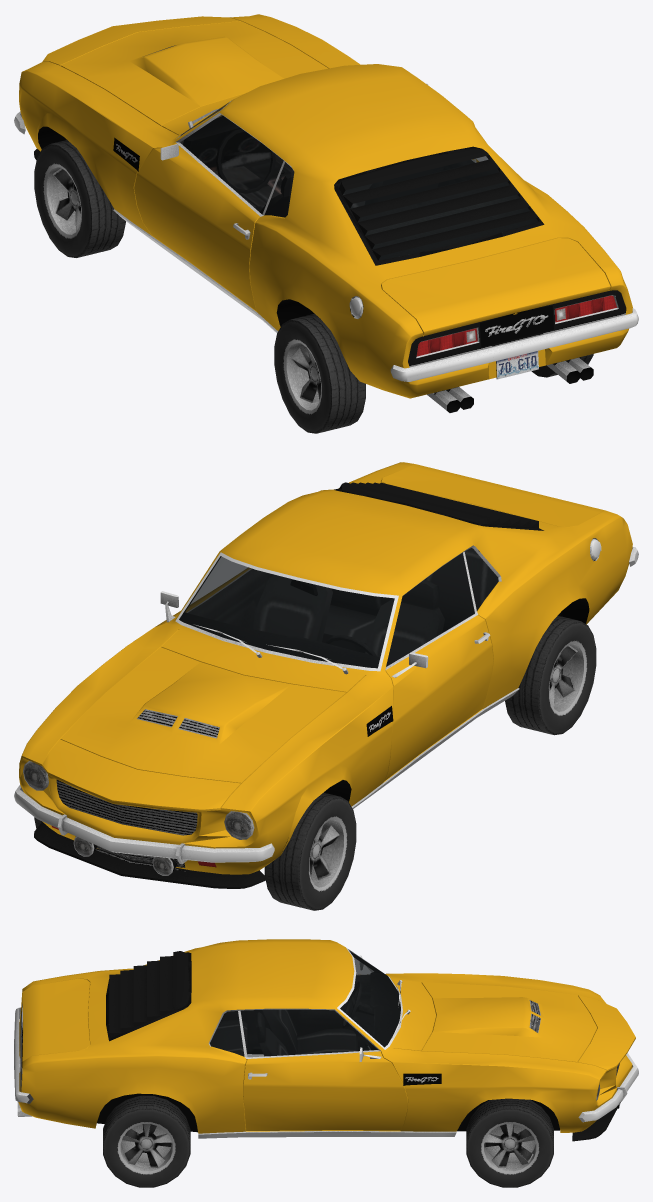
The model's file is musclecar.glb.
3 views of the same model, one above another, from view 1: azimuth 30°, elevation 25°; view 2: azimuth 150°, elevation 25°; view 3: azimuth 270°, elevation 25° (orthographic). The views are drawn at different scales.
Visible parts, largest first — view 1: Body, Trim, Glass, Interior, WheelRL, WheelFL, LightsRear; view 2: Body, Trim, Glass, Interior, WheelFL, WheelRL, LightsFront; view 3: Body, Trim, Glass, Interior, WheelRR, WheelFR.
Part boxes in pixels (x1,y1,x2,y2): Body: (19, 14, 632, 398); Trim: (14, 45, 638, 412); Glass: (180, 102, 537, 260); Interior: (181, 116, 537, 260); WheelRL: (274, 313, 365, 433); WheelFL: (34, 140, 125, 257); LightsRear: (416, 295, 616, 356); Body: (19, 462, 632, 874); Trim: (14, 482, 638, 888); Glass: (179, 548, 498, 668); Interior: (179, 548, 498, 668); WheelFL: (264, 792, 356, 910); WheelRL: (505, 615, 596, 735); LightsFront: (23, 762, 252, 875); Body: (18, 939, 635, 1133); Trim: (14, 947, 638, 1141); Glass: (109, 949, 400, 1057); Interior: (109, 951, 400, 1056); WheelRR: (103, 1095, 190, 1187); WheelFR: (466, 1098, 553, 1187).
Size of the model in its own units: 6.21 by 5 by 16.49.
6 materials, 4 textured.
